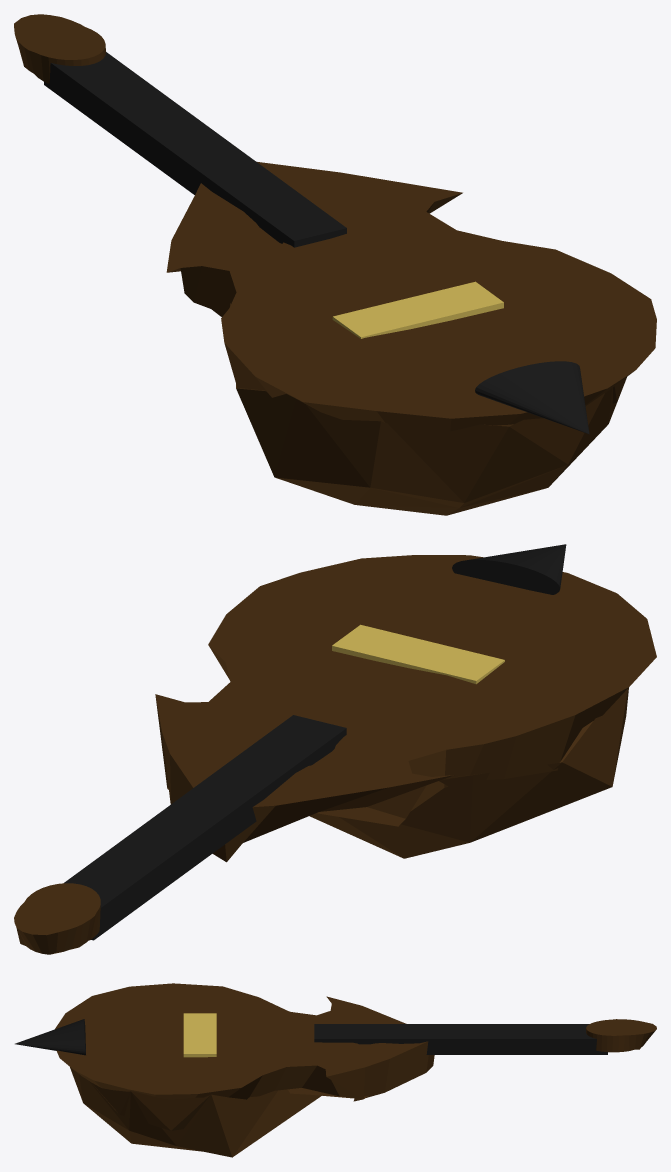
Rendered from contrabajo.fbx.
3 views of the same model, one above another, from view 1: azimuth 30°, elevation 25°; view 2: azimuth 150°, elevation 25°; view 3: azimuth 270°, elevation 25° (orthographic). The views are drawn at different scales.
Parts seen in each view (by area): view 1: Cilindro, Esfera geodésica, Cubo, Cono, Cubo.001, Cilindro.002; view 2: Cilindro, Cubo, Esfera geodésica, Cilindro.002, Cubo.001, Cono; view 3: Cilindro, Esfera geodésica, Cubo, Cilindro.002, Cubo.001, Cono.
Part boxes in pixels (x1,y1,x2,y2): Cilindro: [166, 161, 656, 431]; Esfera geodésica: [230, 303, 626, 515]; Cubo: [44, 52, 346, 247]; Cono: [475, 361, 589, 434]; Cubo.001: [332, 281, 503, 338]; Cilindro.002: [14, 14, 105, 83]; Cilindro: [155, 555, 656, 862]; Cubo: [64, 715, 346, 940]; Esfera geodésica: [309, 688, 628, 858]; Cilindro.002: [14, 883, 100, 954]; Cubo.001: [332, 624, 504, 684]; Cono: [452, 544, 566, 594]; Cilindro: [55, 983, 434, 1101]; Esfera geodésica: [70, 1067, 321, 1157]; Cubo: [314, 1024, 607, 1054]; Cilindro.002: [586, 1019, 656, 1052]; Cubo.001: [183, 1013, 216, 1057]; Cono: [15, 1019, 85, 1055].
Bounding box in the file's own units: 252 × 126 × 628.
